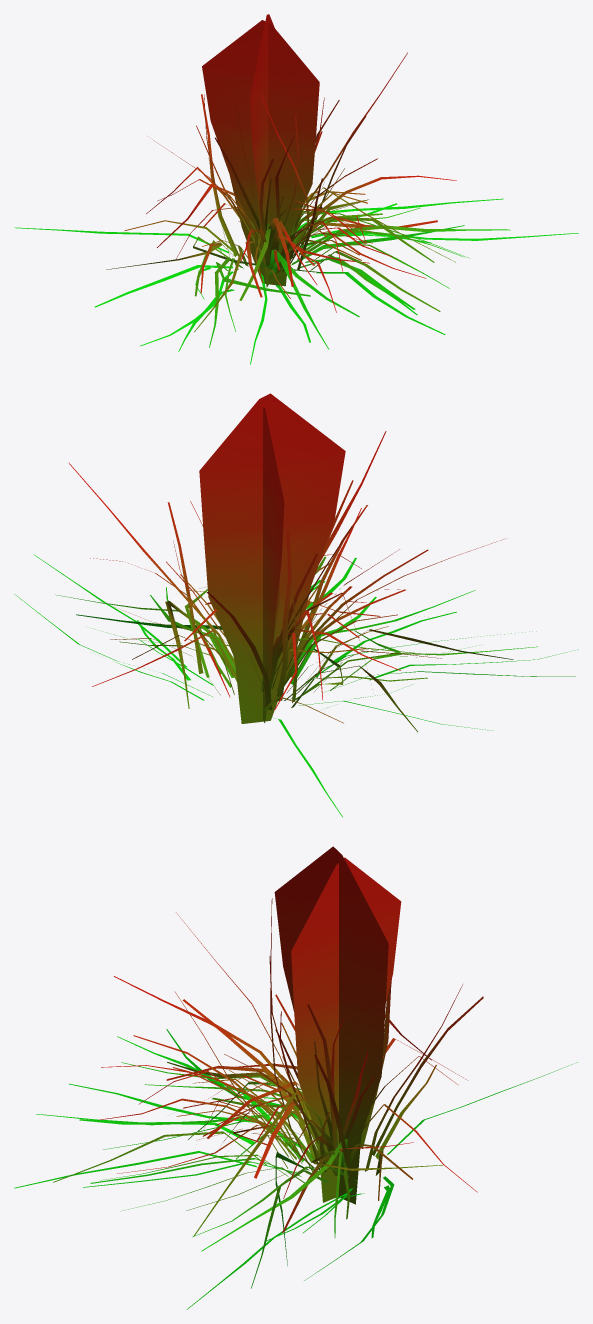
File: Var12_LOD3.fbx
3 renders of one model, top to bottom at view 1: azimuth 30°, elevation 25°; view 2: azimuth 150°, elevation 25°; view 3: azimuth 270°, elevation 25°, orthographic. The views are drawn at different scales.
Parts seen in each view (by area): view 1: _24b5_Var12_LOD3; view 2: _24b5_Var12_LOD3; view 3: _24b5_Var12_LOD3.
Boxes of the visible parts, box(x1,y1,x2,y2) form: _24b5_Var12_LOD3: box(14, 14, 578, 364); _24b5_Var12_LOD3: box(14, 393, 578, 817); _24b5_Var12_LOD3: box(14, 846, 577, 1309).
Bounding box in the file's own units: 32.66 × 19.09 × 28.03.
